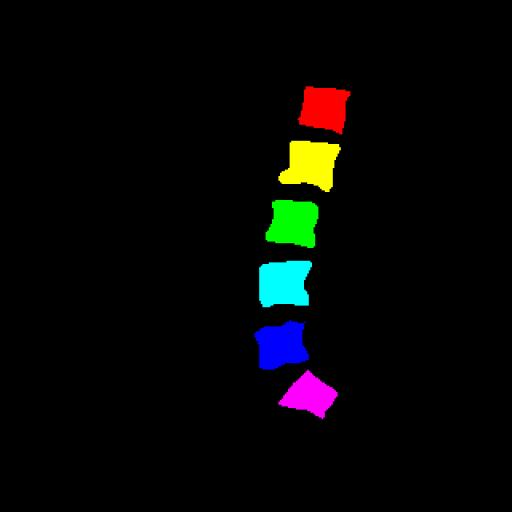L1: (299, 86, 350, 134)
L2: (278, 141, 341, 192)
L3: (266, 200, 318, 248)
L4: (259, 261, 312, 307)
L5: (254, 321, 309, 369)
S1: (278, 370, 338, 418)
